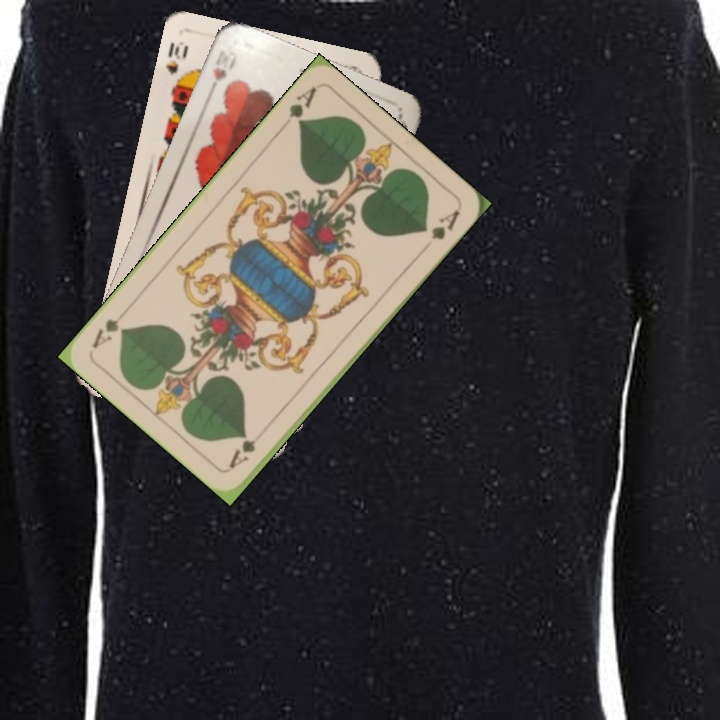GA: (225, 424, 270, 471), (284, 83, 320, 129)
H10: (204, 43, 240, 99)
S10: (161, 37, 191, 92)
